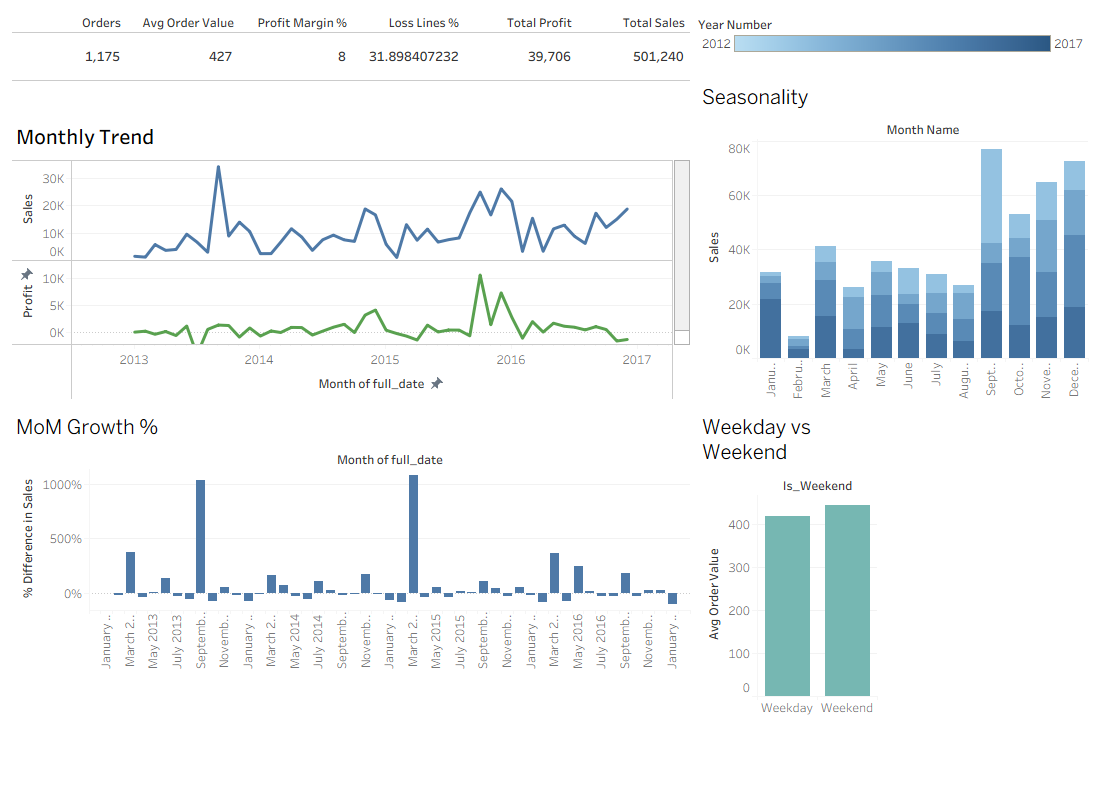

The page's visual inventory and layout, read from the dashboard file:
{"tool":"tableau","page":{"name":"D1- Executive_Overview","canvas":[1100,800],"ordinal":0},"visuals":[{"type":"worksheet","title":"D1- KPI Cards","mark":"Automatic","box":[8,8,685.7,77]},{"type":"legend","title":"D1- Seasonality","param":"[federated.10387ro0izt5ks16vwlgk15n9znr].[none:year_number:qk]","box":[693.7,8,398,66]},{"type":"worksheet","title":"D1- Seasonality","mark":"Automatic","rows":["sales"],"cols":["month_name"],"box":[693.7,74,398,330]},{"type":"worksheet","title":"D1- Monthly Trend","mark":"Automatic","rows":["sales","profit"],"cols":["full_date"],"box":[8,85,685.7,319]},{"type":"worksheet","title":"D1- MoM Growth %","mark":"Bar","cols":["full_date"],"box":[8,404,685.7,270]},{"type":"worksheet","title":"D1- Weekday vs Weekend","mark":"Automatic","rows":["Calculation_0299118398279684"],"cols":["Calculation_0299118417899527"],"box":[693.7,404,398,317]}]}

Visuals, with their boxes in screenshot pixels (x1, y1, x2, y2), scaled from the page's 1100x800 canvas onto the 1100x800 screenshot:
"D1- KPI Cards" worksheet: <bbox>8, 8, 694, 85</bbox>
"D1- Seasonality" legend: <bbox>694, 8, 1092, 74</bbox>
"D1- Seasonality" worksheet: <bbox>694, 74, 1092, 404</bbox>
"D1- Monthly Trend" worksheet: <bbox>8, 85, 694, 404</bbox>
"D1- MoM Growth %" worksheet (Bar marks): <bbox>8, 404, 694, 674</bbox>
"D1- Weekday vs Weekend" worksheet: <bbox>694, 404, 1092, 721</bbox>
